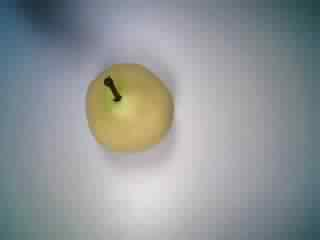pear: (71, 56, 179, 161)
